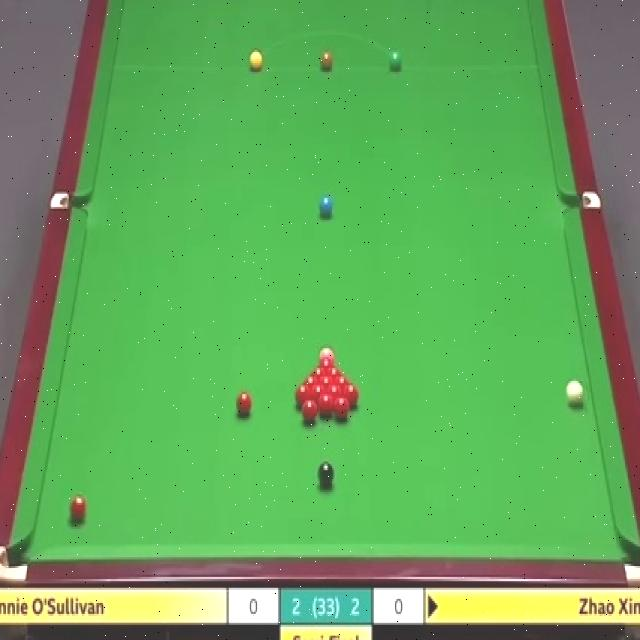black-ball: (317, 459, 334, 489)
blue-ball: (320, 196, 334, 220)
brown-ball: (321, 51, 334, 70)
green-ball: (389, 50, 402, 72)
pink-ball: (318, 342, 335, 362)
red-ball: (235, 392, 255, 420), (300, 401, 318, 426), (71, 498, 86, 526), (318, 393, 334, 419), (334, 398, 351, 421), (342, 385, 360, 406), (295, 384, 311, 407), (310, 384, 327, 401), (327, 386, 342, 405), (325, 368, 344, 379), (334, 376, 352, 387), (318, 377, 335, 388), (308, 368, 326, 378), (317, 358, 335, 368), (303, 377, 318, 388)
white-ball: (566, 381, 583, 406)
yellow-ball: (249, 49, 264, 72)
